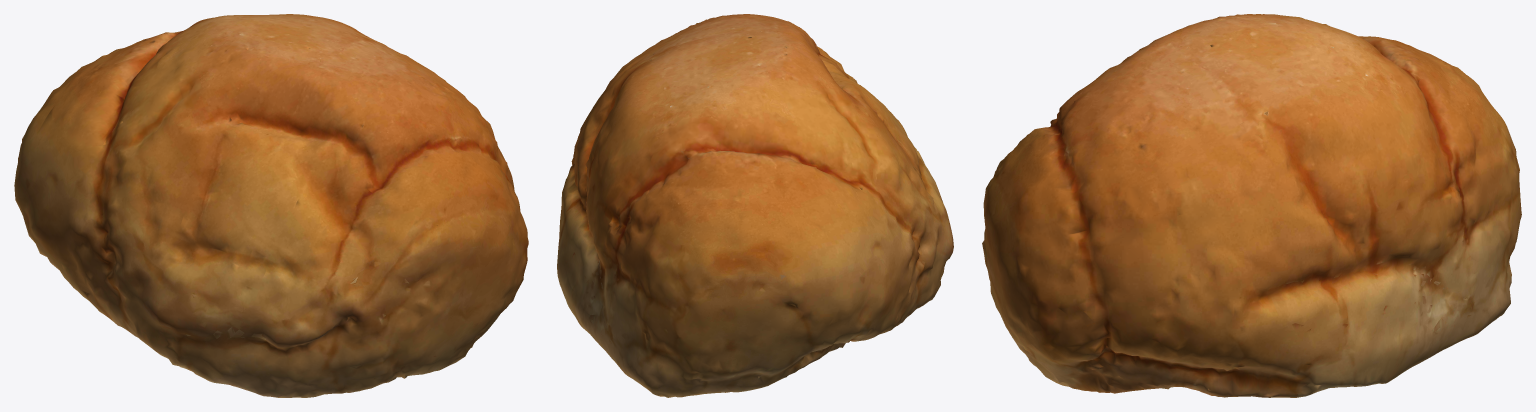
The model's file is bread.glb.
3 views of the same model, side by side, from view 1: azimuth 30°, elevation 25°; view 2: azimuth 150°, elevation 25°; view 3: azimuth 270°, elevation 25° (orthographic). The views are drawn at different scales.
Visible parts, largest first — view 1: Bread; view 2: Bread; view 3: Bread.
Boxes of the visible parts, x1,y1,x2,y2 form: Bread: (14, 14, 528, 397); Bread: (557, 14, 953, 397); Bread: (982, 14, 1521, 397).
Size of the model in its own units: 0.8859 by 0.626 by 1.
1 material, 1 textured.
